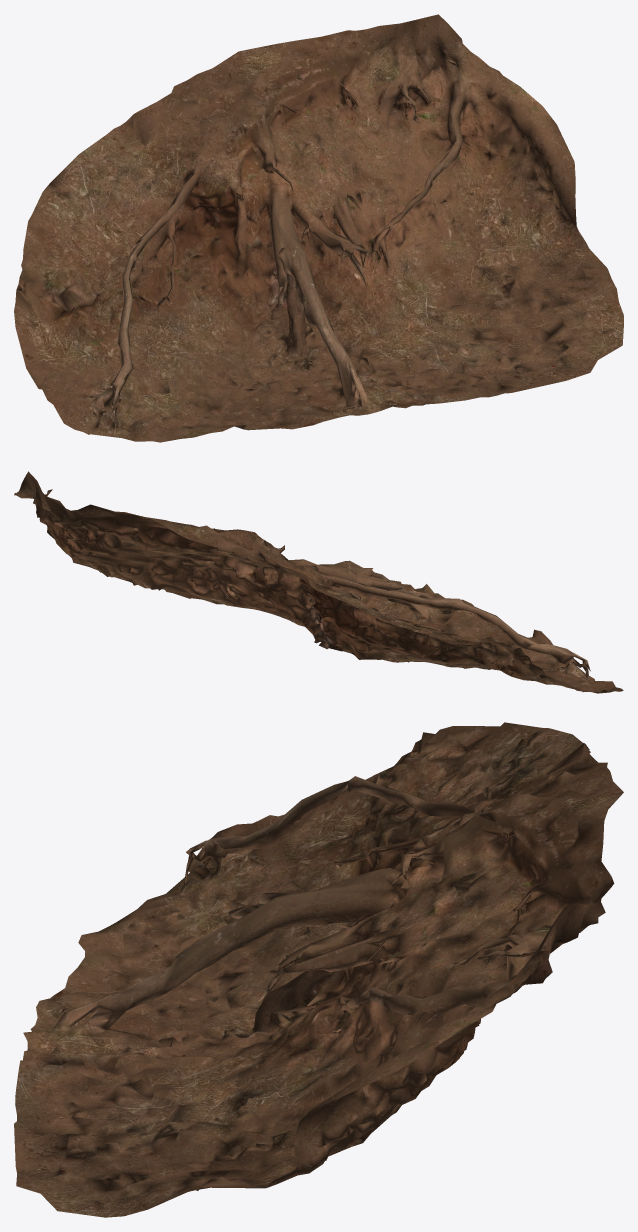
File: roots.glb
3 renders of one model, top to bottom at view 1: azimuth 30°, elevation 25°; view 2: azimuth 150°, elevation 25°; view 3: azimuth 270°, elevation 25°, orthographic. The views are drawn at different scales.
Parts seen in each view (by area): view 1: root_cluster_01; view 2: root_cluster_01; view 3: root_cluster_01.
Part boxes in pixels (x1,y1,x2,y2): root_cluster_01: (14, 14, 623, 442); root_cluster_01: (14, 471, 623, 693); root_cluster_01: (14, 722, 623, 1217).
Bounding box in the file's own units: 4.12 × 1.51 × 2.68.
Materials: 1 (1 with a texture image).
